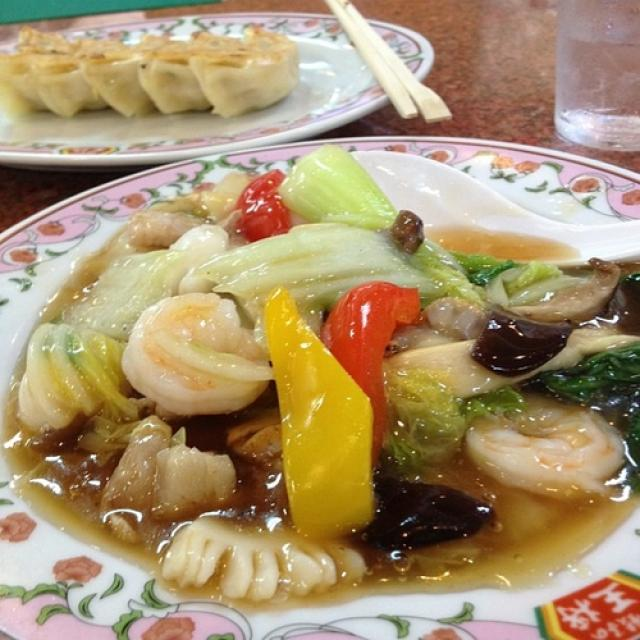汉堡快餐: (54, 16, 620, 493)
